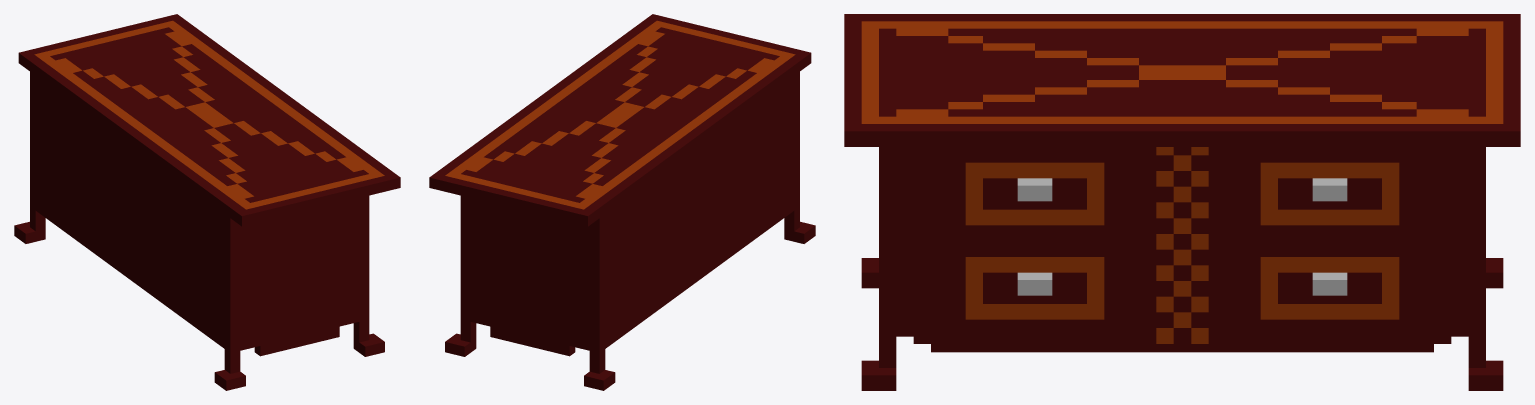
Rendered from house_dresser.obj.
3 renders of one model, left to right at view 1: azimuth 30°, elevation 25°; view 2: azimuth 150°, elevation 25°; view 3: azimuth 270°, elevation 25°, orthographic. The views are drawn at different scales.
Visible parts, largest first — view 1: house_dresser; view 2: house_dresser; view 3: house_dresser.
Boxes of the visible parts, x1,y1,x2,y2 form: house_dresser: (14,14,400,390); house_dresser: (429,14,815,390); house_dresser: (844,14,1520,390).
Size of the model in its own units: 18 by 17 by 39.
1 material, 1 textured.
